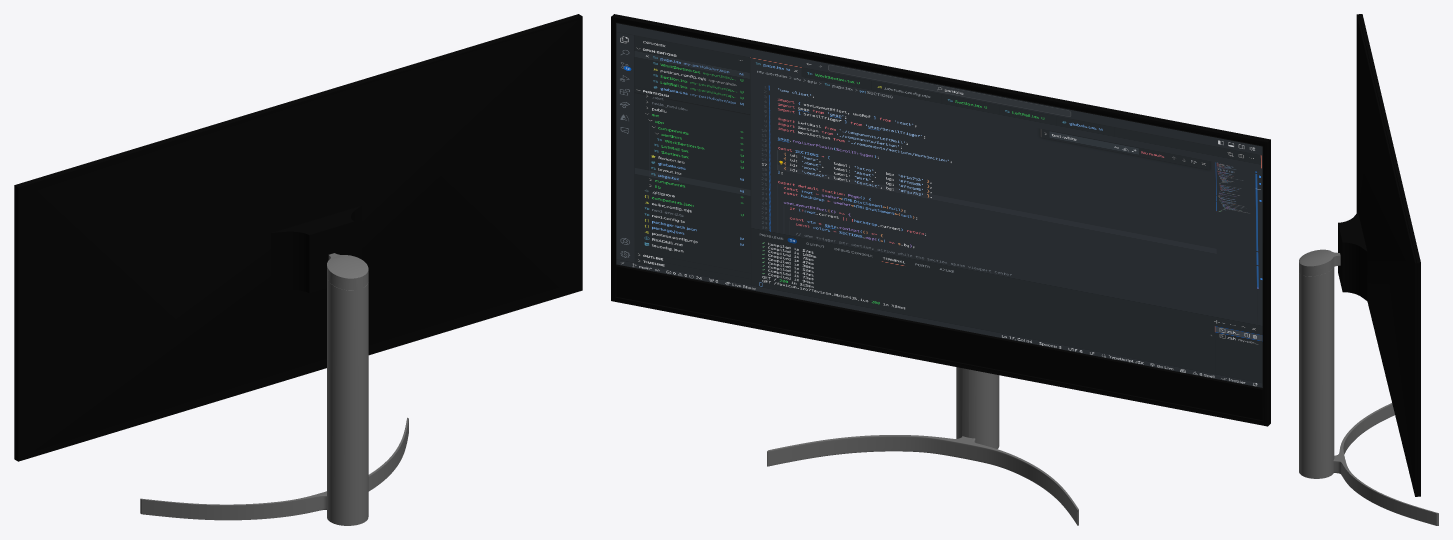
File: computer.glb
3 renders of one model, left to right at view 1: azimuth 30°, elevation 25°; view 2: azimuth 150°, elevation 25°; view 3: azimuth 270°, elevation 25°, orthographic. The views are drawn at different scales.
Parts seen in each view (by area): view 1: Cube.002, Cylinder.001, Cube.001; view 2: Cube.003, Cube.002, Cube.001, Cylinder.001; view 3: Cube.002, Cylinder.001, Cube.001.
Boxes of the visible parts, bbox=[...] form: Cube.002: bbox=[14, 14, 582, 461]; Cylinder.001: bbox=[327, 253, 368, 525]; Cube.001: bbox=[140, 417, 408, 520]; Cube.003: bbox=[616, 23, 1262, 387]; Cube.002: bbox=[611, 14, 1270, 426]; Cube.001: bbox=[767, 435, 1078, 525]; Cylinder.001: bbox=[956, 367, 999, 448]; Cube.002: bbox=[1338, 14, 1420, 496]; Cylinder.001: bbox=[1299, 249, 1340, 478]; Cube.001: bbox=[1333, 403, 1438, 525].
Size of the model in its own units: 4.7 by 2.9 by 1.12.
Materials: 3 (1 with a texture image).
